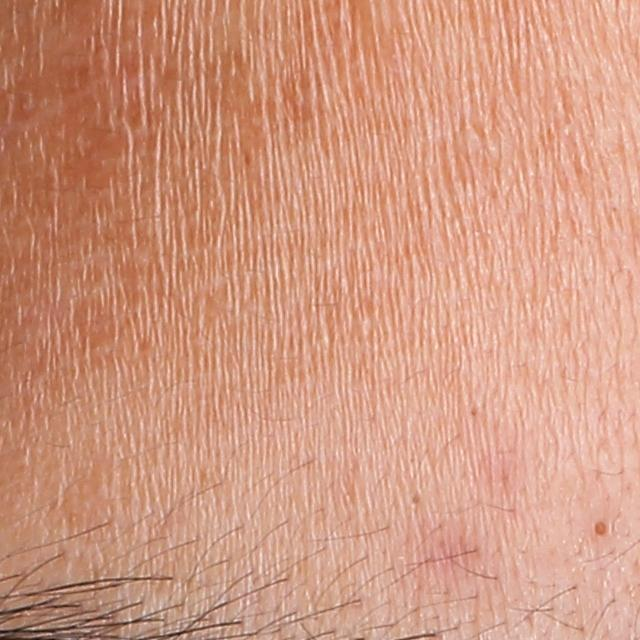comedo: (586, 514, 611, 540), (409, 493, 423, 509)
